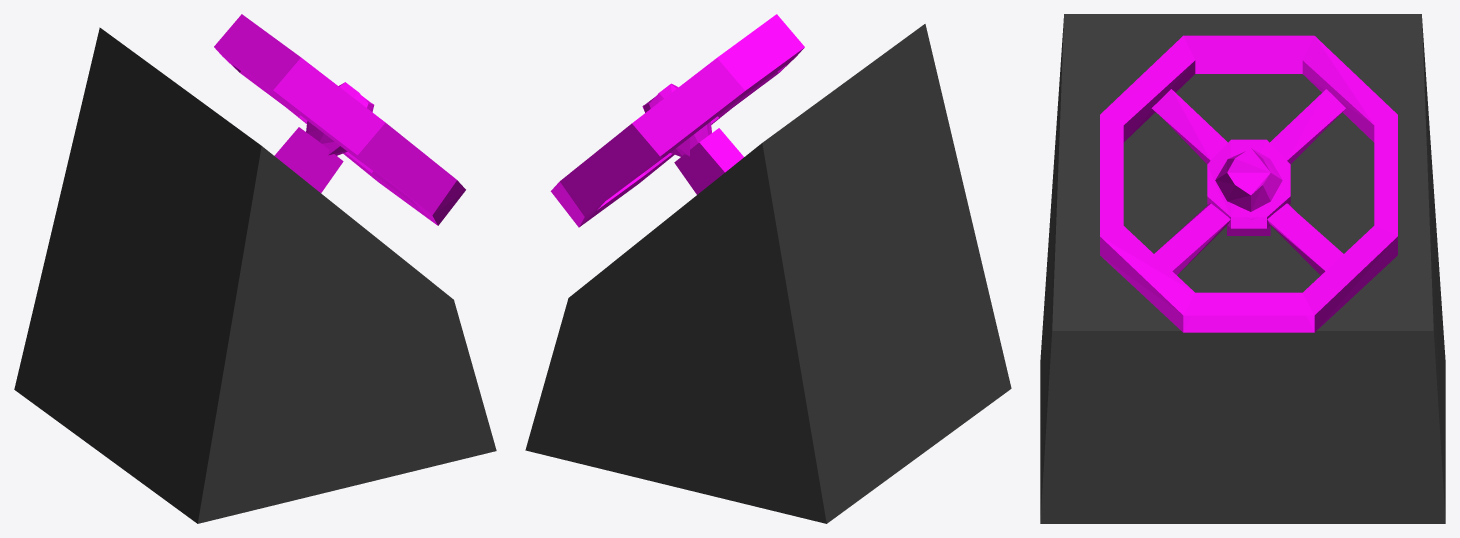
Rendered from sewervalve.obj.
The picture shows the model from 3 angles, left to right: view 1: azimuth 30°, elevation 25°; view 2: azimuth 150°, elevation 25°; view 3: azimuth 270°, elevation 25°; orthographic projection. The views are drawn at different scales.
Visible parts, largest first — view 1: sewervalve_front; view 2: sewervalve_front, sewervalve_back; view 3: sewervalve_back, sewervalve_front.
Part boxes in pixels (bbox=[...]): sewervalve_front: bbox=[14, 14, 496, 523]; sewervalve_front: bbox=[550, 14, 1011, 523]; sewervalve_back: bbox=[525, 143, 826, 523]; sewervalve_back: bbox=[1040, 14, 1445, 523]; sewervalve_front: bbox=[1040, 18, 1397, 520].
Bounding box in the file's own units: 1.07 × 1.16 × 1.02.
